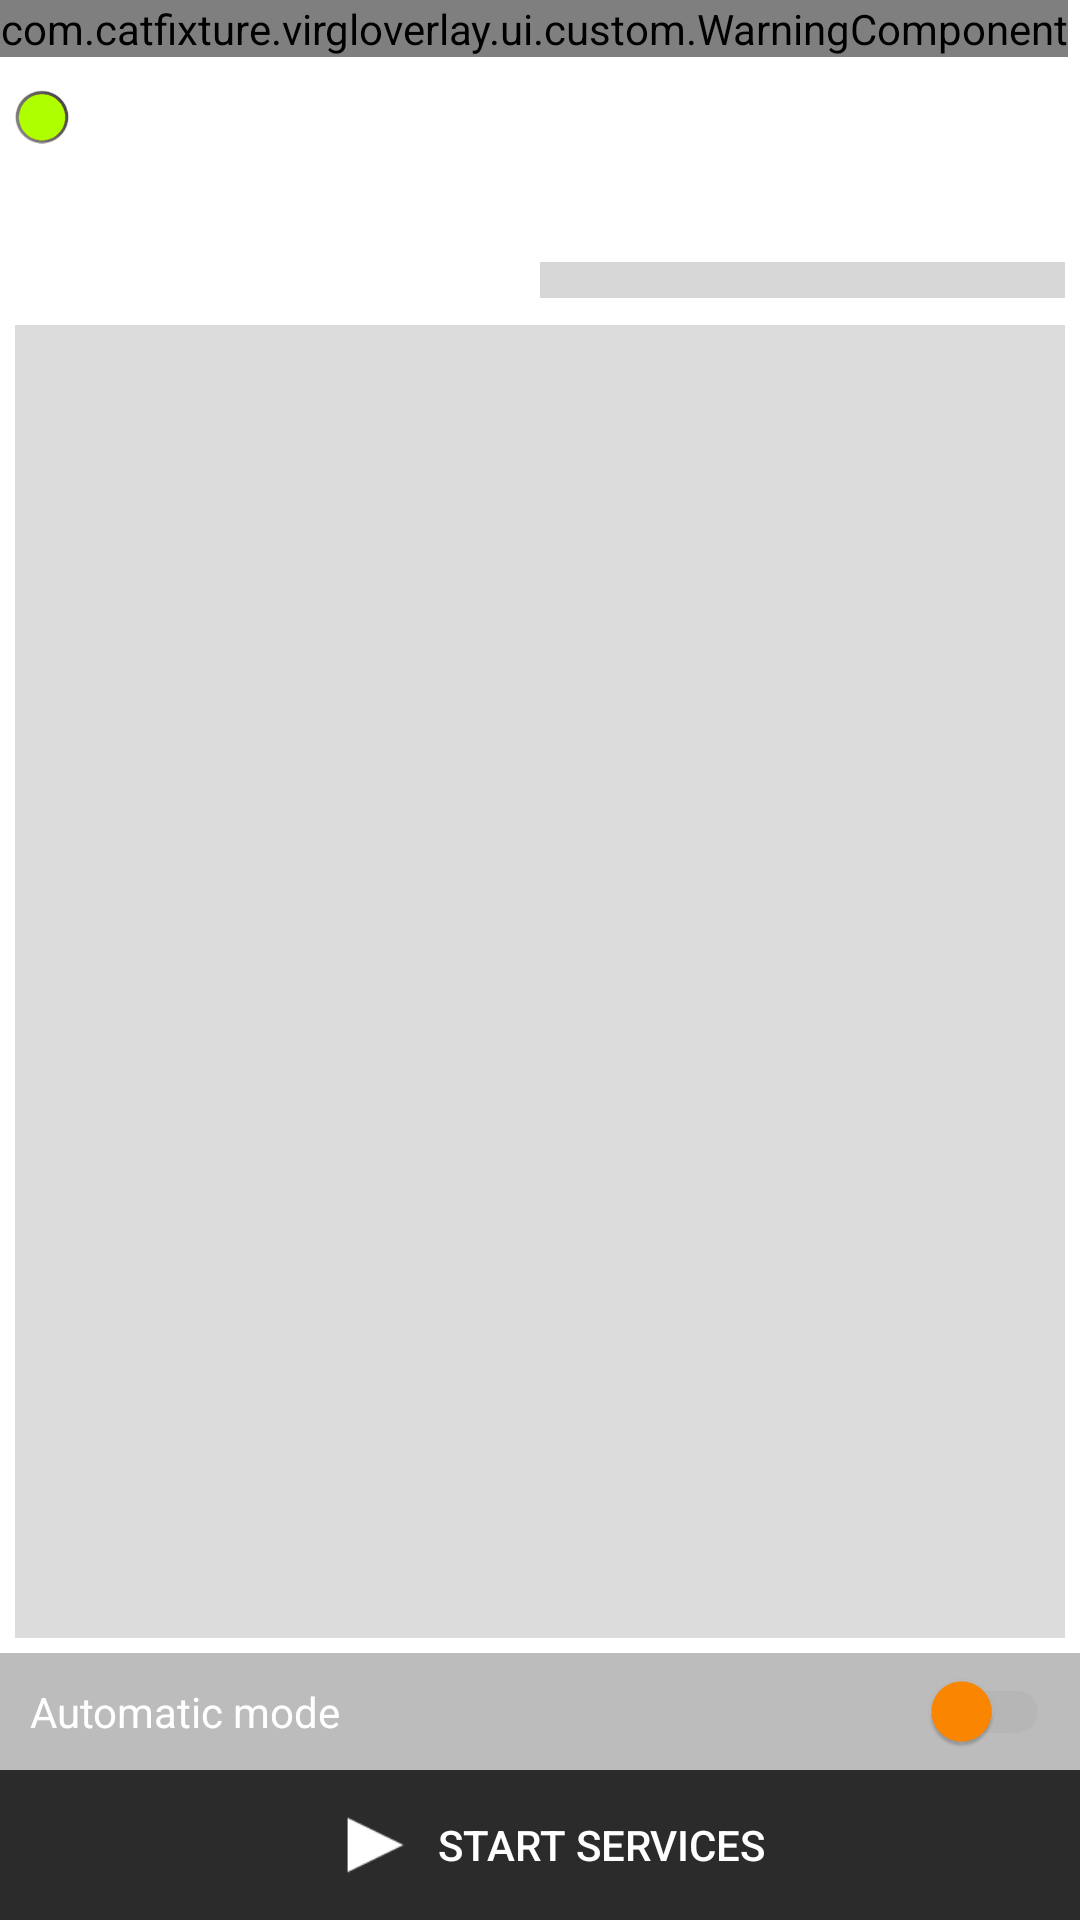

Icon click points for this 1080 x 1920 phone screenshot, format point (x, y):
run: point (375, 1845)
